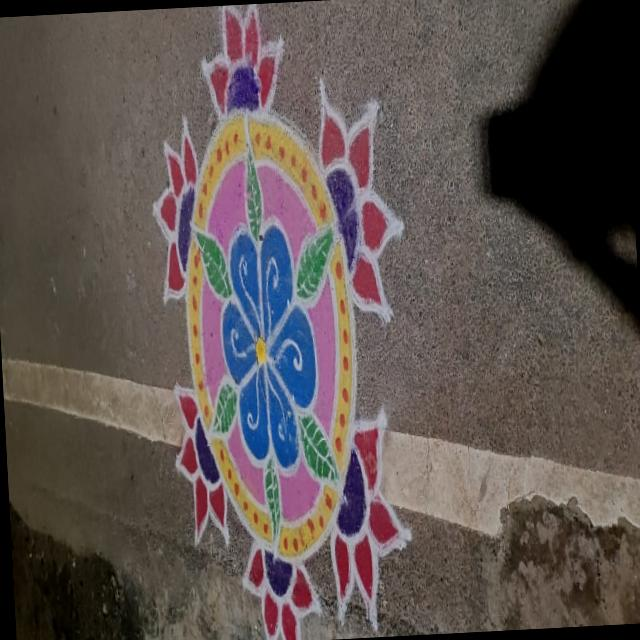rangoli: (132, 0, 442, 640)
